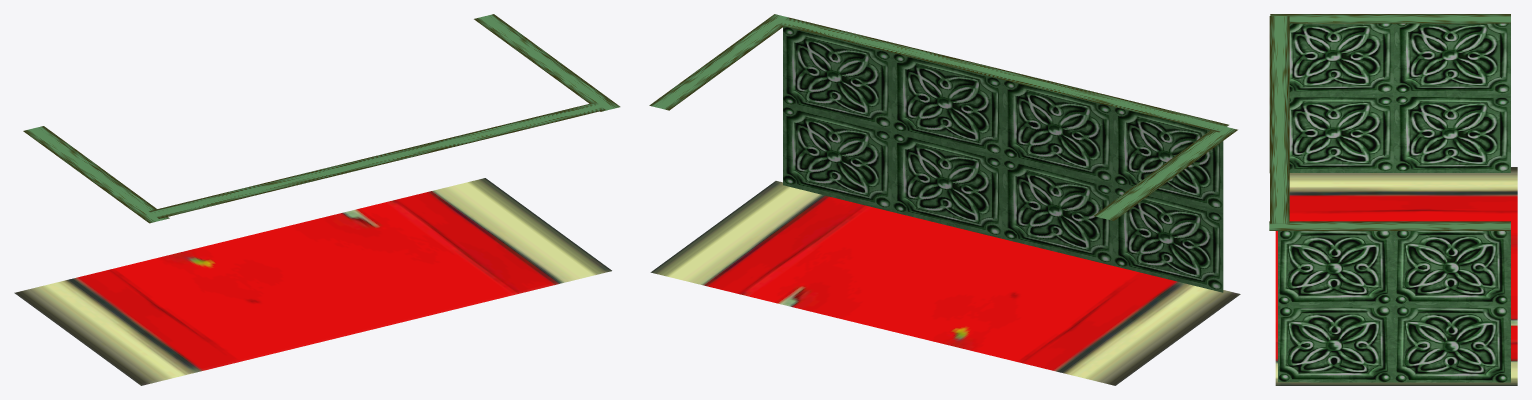
Rendered from TTreppeZiwschenteil_126.glb.
3 renders of one model, left to right at view 1: azimuth 30°, elevation 25°; view 2: azimuth 150°, elevation 25°; view 3: azimuth 270°, elevation 25°, orthographic. The views are drawn at different scales.
Parts seen in each view (by area): view 1: pPlaneShape31, pPlaneShape28, pPlaneShape30, pPlaneShape29; view 2: pPlaneShape26, pPlaneShape31, pPlaneShape28, pPlaneShape30, pPlaneShape29; view 3: pPlaneShape27, pPlaneShape25, pPlaneShape31, pPlaneShape28, pPlaneShape29, pPlaneShape30.
Part boxes in pixels (<box>): pPlaneShape31: <box>14,178,611,385</box>; pPlaneShape28: <box>149,102,604,218</box>; pPlaneShape30: <box>23,126,169,223</box>; pPlaneShape29: <box>474,14,620,111</box>; pPlaneShape26: <box>783,26,1223,292</box>; pPlaneShape31: <box>650,181,1240,385</box>; pPlaneShape28: <box>779,17,1228,132</box>; pPlaneShape30: <box>1094,127,1237,220</box>; pPlaneShape29: <box>649,14,788,110</box>; pPlaneShape27: <box>1278,231,1510,382</box>; pPlaneShape25: <box>1289,23,1510,172</box>; pPlaneShape31: <box>1275,167,1517,385</box>; pPlaneShape28: <box>1269,16,1289,223</box>; pPlaneShape29: <box>1269,221,1510,230</box>; pPlaneShape30: <box>1270,14,1510,23</box>.
Bounding box in the file's own units: 0.4742 × 0.1588 × 0.2252.
7 materials, 7 textured.
